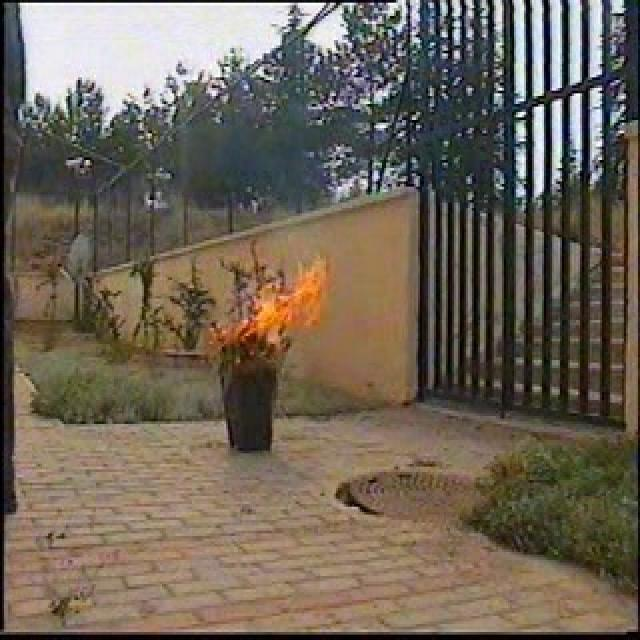Fire: (206, 248, 332, 356)
Smoke: (234, 107, 344, 330)
